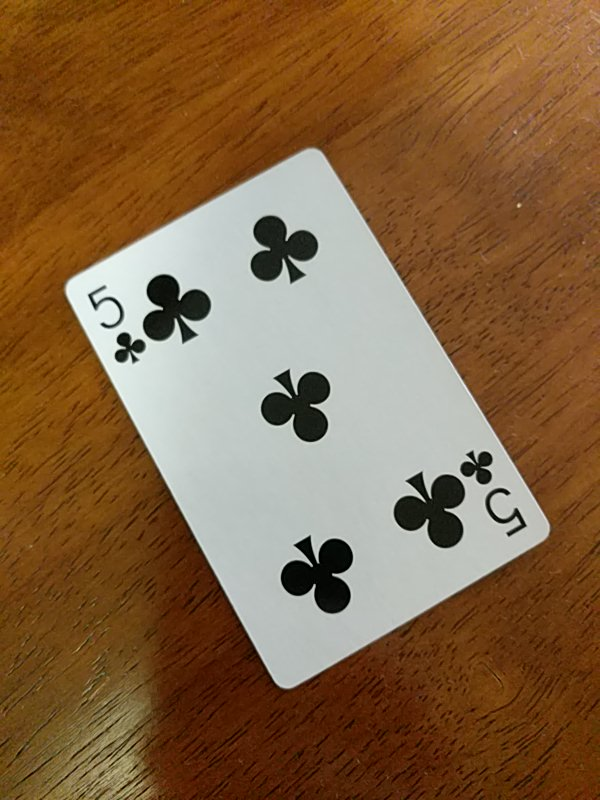Clubs: (68, 147, 550, 690)
